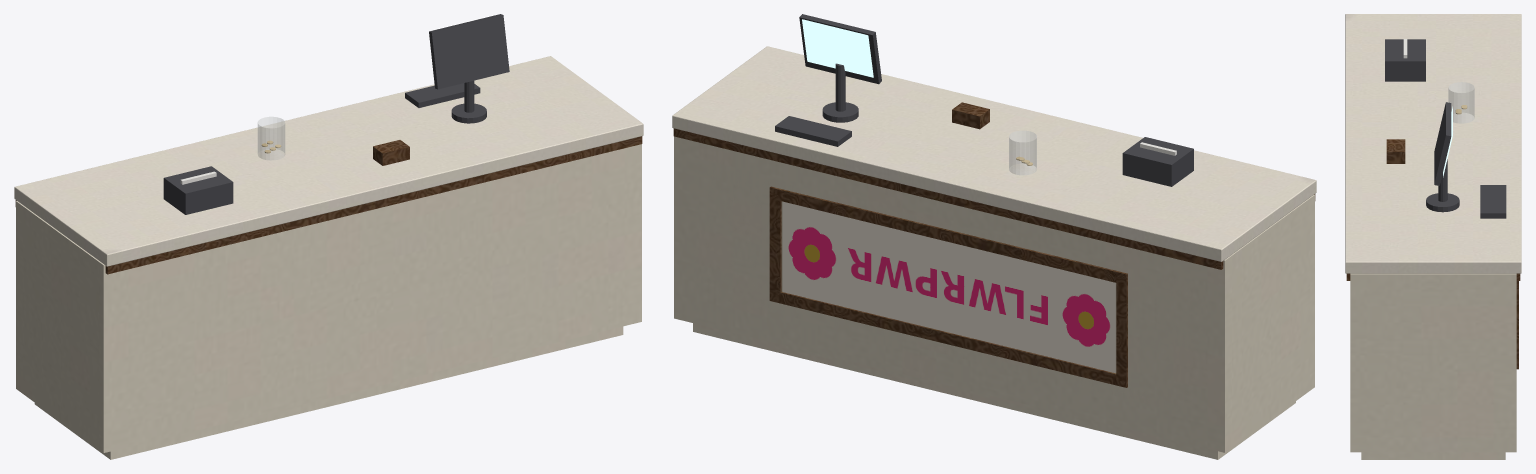
Rendered from checkout_counter.glb.
3 views of the same model, side by side, from view 1: azimuth 30°, elevation 25°; view 2: azimuth 150°, elevation 25°; view 3: azimuth 270°, elevation 25° (orthographic). The views are drawn at different scales.
Visible parts, largest first — view 1: counter_hd_cream, counter_hd_countertop, counter_hd_black, counter_hd_darkwood, counter_hd_jarglass; view 2: counter_hd_cream, counter_hd_countertop, counter_hd_counterfront, counter_hd_darkwood, counter_hd_black, counter_hd_posscreen, counter_hd_jarglass; view 3: counter_hd_countertop, counter_hd_cream, counter_hd_black, counter_hd_jarglass, counter_hd_darkwood.
Part boxes in pixels (x1=…): counter_hd_cream: x1=16, y1=144, x2=641, y2=459; counter_hd_countertop: x1=14, y1=56, x2=643, y2=266; counter_hd_black: x1=163, y1=14, x2=509, y2=214; counter_hd_darkwood: x1=15, y1=136, x2=642, y2=274; counter_hd_jarglass: x1=257, y1=116, x2=285, y2=160; counter_hd_cream: x1=674, y1=136, x2=1314, y2=459; counter_hd_countertop: x1=672, y1=46, x2=1316, y2=261; counter_hd_counterfront: x1=783, y1=201, x2=1115, y2=373; counter_hd_darkwood: x1=673, y1=102, x2=1315, y2=387; counter_hd_black: x1=775, y1=14, x2=1193, y2=186; counter_hd_posscreen: x1=802, y1=19, x2=873, y2=77; counter_hd_jarglass: x1=1009, y1=130, x2=1036, y2=175; counter_hd_countertop: x1=1345, y1=14, x2=1521, y2=273; counter_hd_cream: x1=1350, y1=273, x2=1516, y2=459; counter_hd_black: x1=1385, y1=39, x2=1506, y2=218; counter_hd_jarglass: x1=1448, y1=82, x2=1474, y2=123; counter_hd_darkwood: x1=1346, y1=139, x2=1520, y2=369.
Bounding box in the file's own units: 3.15 × 1.71 × 0.942.
9 materials, 4 textured.
